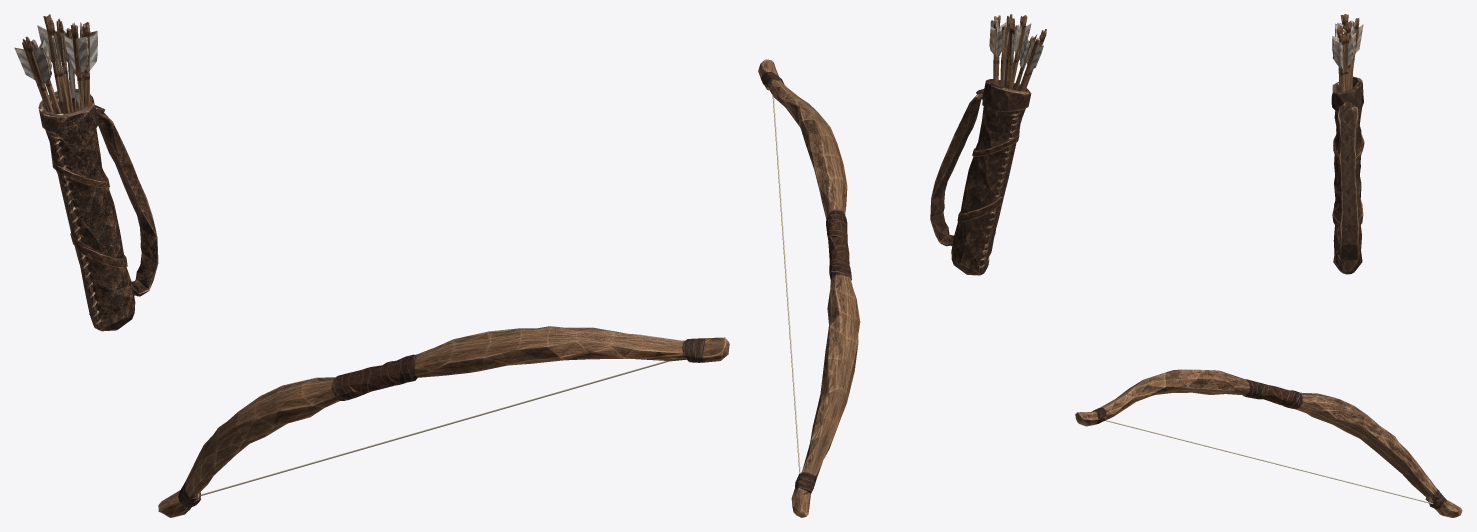
Rendered from hunter.glb.
3 renders of one model, left to right at view 1: azimuth 30°, elevation 25°; view 2: azimuth 150°, elevation 25°; view 3: azimuth 270°, elevation 25°, orthographic. The views are drawn at different scales.
Visible parts, largest first — view 1: Module_tool_hunter_quiver_0, Module_tool_hunter_bow_0, Module_tool_hunter_string; view 2: Module_tool_hunter_quiver_0, Module_tool_hunter_bow_0, Module_tool_hunter_string; view 3: Module_tool_hunter_bow_0, Module_tool_hunter_quiver_0, Module_tool_hunter_string.
Part boxes in pixels (x1,y1,x2,y2): Module_tool_hunter_quiver_0: [14, 14, 158, 331]; Module_tool_hunter_bow_0: [158, 326, 729, 517]; Module_tool_hunter_string: [200, 344, 725, 496]; Module_tool_hunter_quiver_0: [930, 14, 1046, 275]; Module_tool_hunter_bow_0: [758, 59, 860, 517]; Module_tool_hunter_string: [772, 96, 800, 473]; Module_tool_hunter_bow_0: [1075, 369, 1462, 517]; Module_tool_hunter_quiver_0: [1331, 14, 1364, 274]; Module_tool_hunter_string: [1076, 413, 1433, 504].
Bounding box in the file's own units: 1.07 × 1.16 × 0.9317.
Materials: 2 (1 with a texture image).
